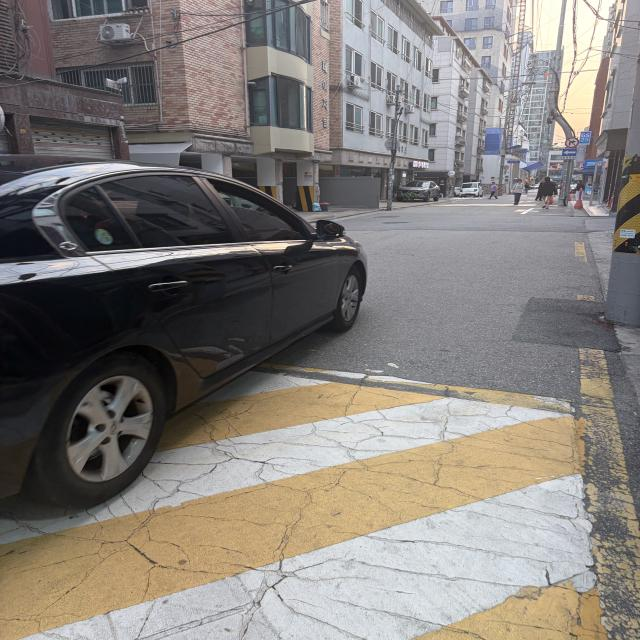car: (0, 131, 401, 530)
